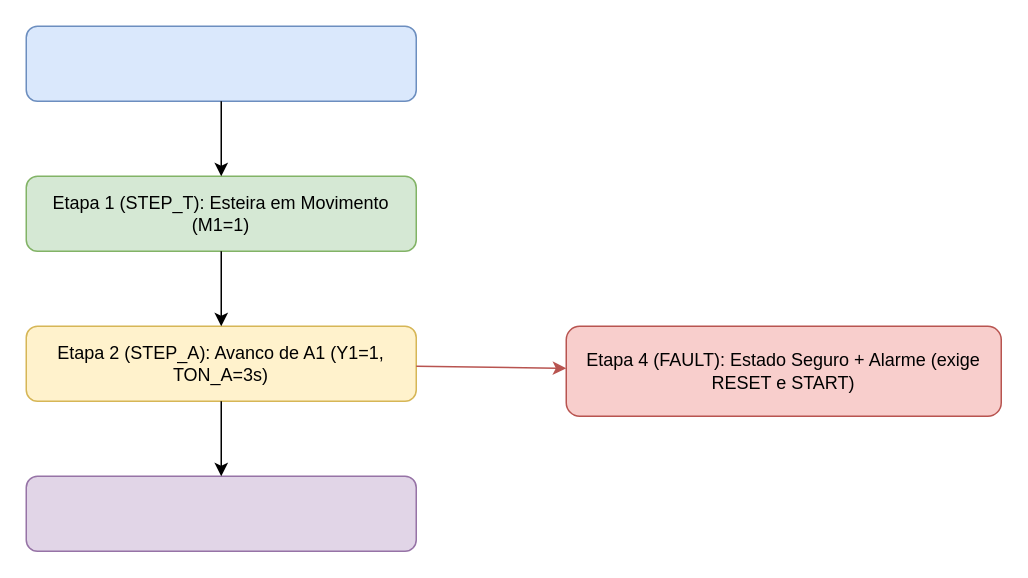
This 1028x578 diagram has some shape labels left out. The centre of each missing label's shape, as x and y in pixels:
"Etapa 0: Repouso / Seguro (M1=0, Y1=0, Y2=0)" belongs at point 220,63.
"Etapa 3 (STEP_R): Retorno de A1 (Y2=1, TON_R=3s)" belongs at point 220,513.
